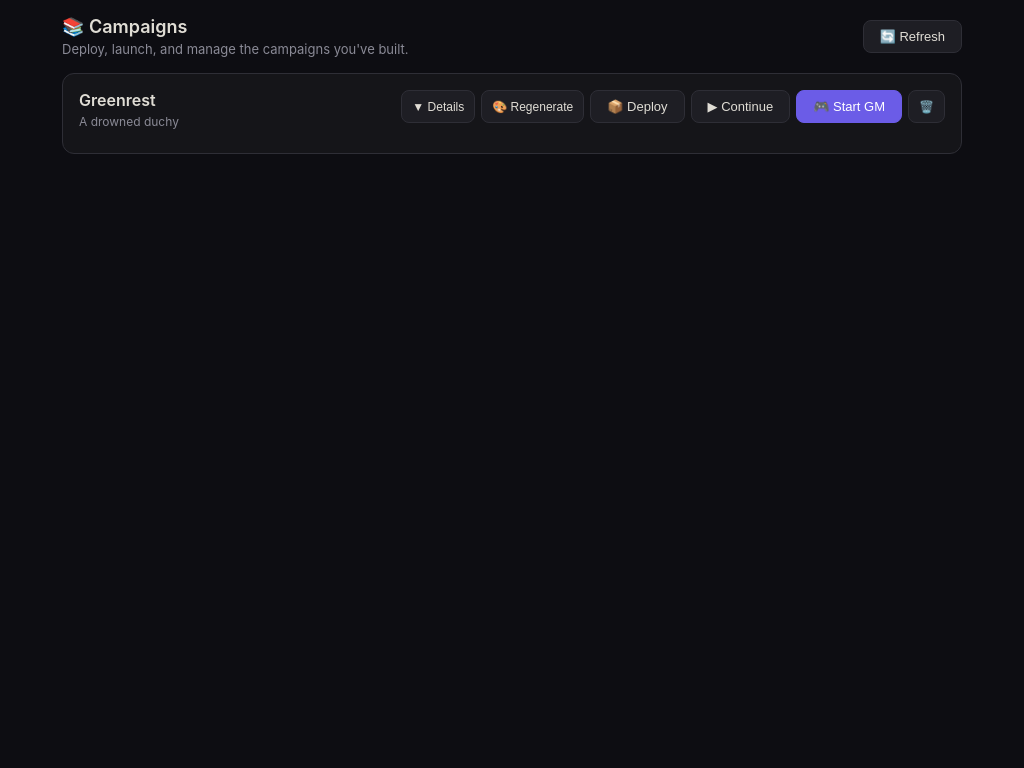
Test case: CampaignStart — campaign details › collapses and re-expands without refetching
The image size is (1024, 768).
Click the button "▼ Details" at (438, 106), box x1=401 y1=90 x2=475 y2=123
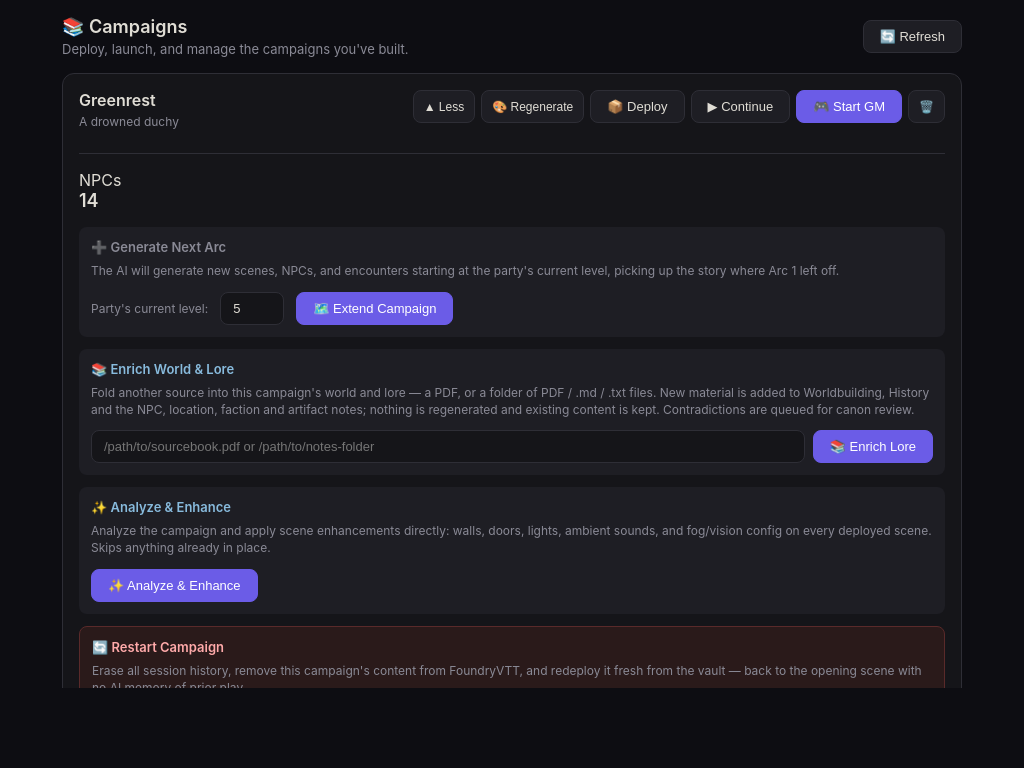
Click the button "▲ Less" at (444, 106), box x1=413 y1=90 x2=475 y2=123
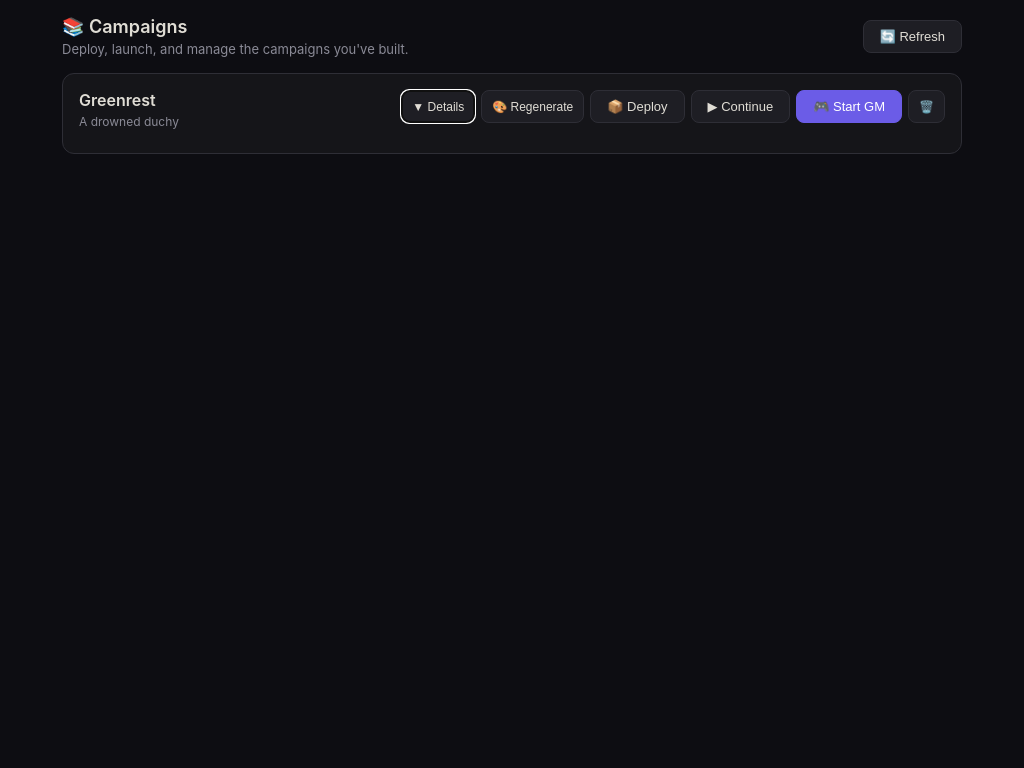
Expected: the text "NPCs" is gone
Click the button "▼ Details" at (438, 106), box x1=401 y1=90 x2=475 y2=123
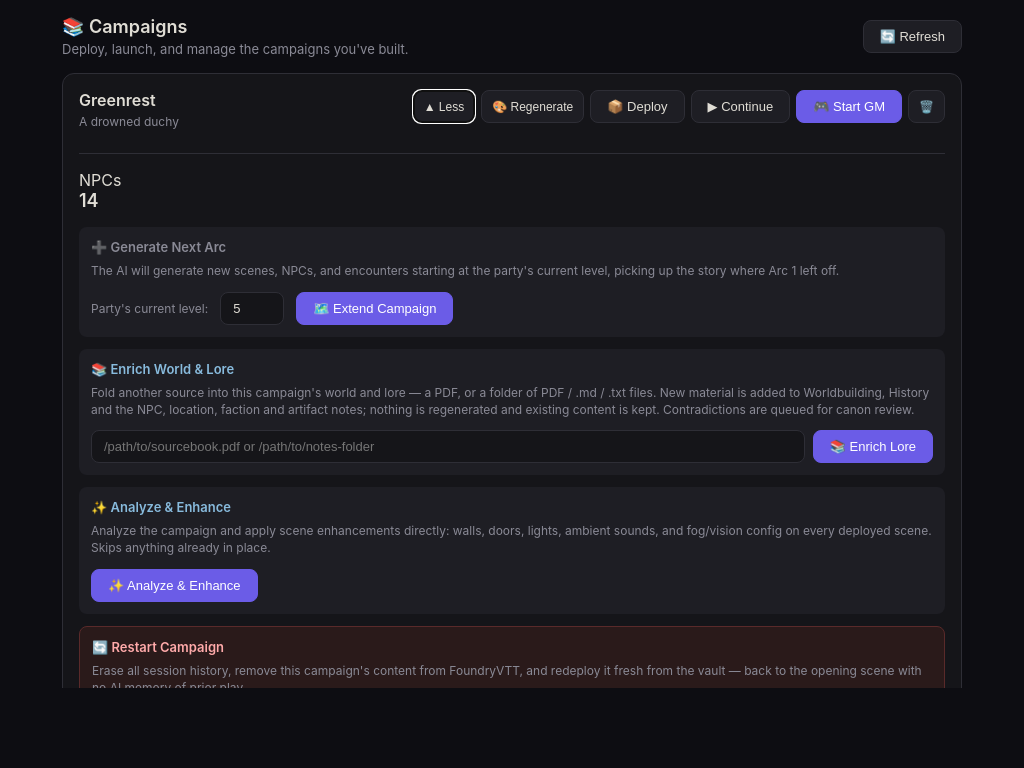
Expected: the text "NPCs" is shown, x1=79 y1=170 x2=121 y2=190
